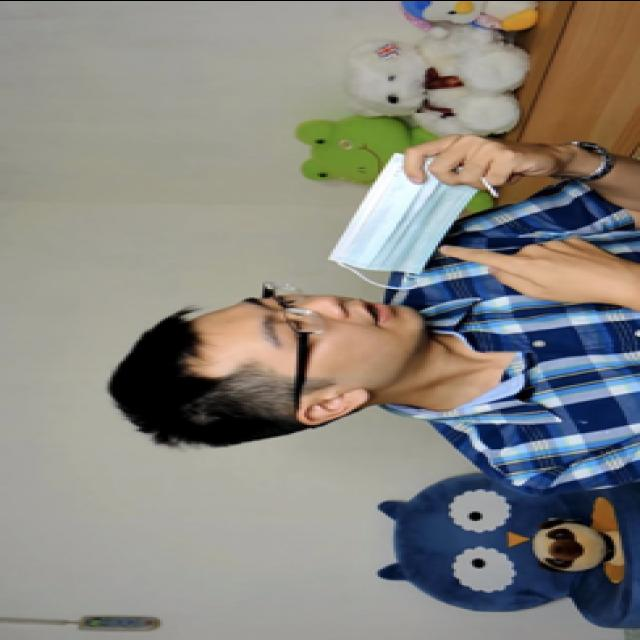no_mask: (233, 294, 428, 388)
